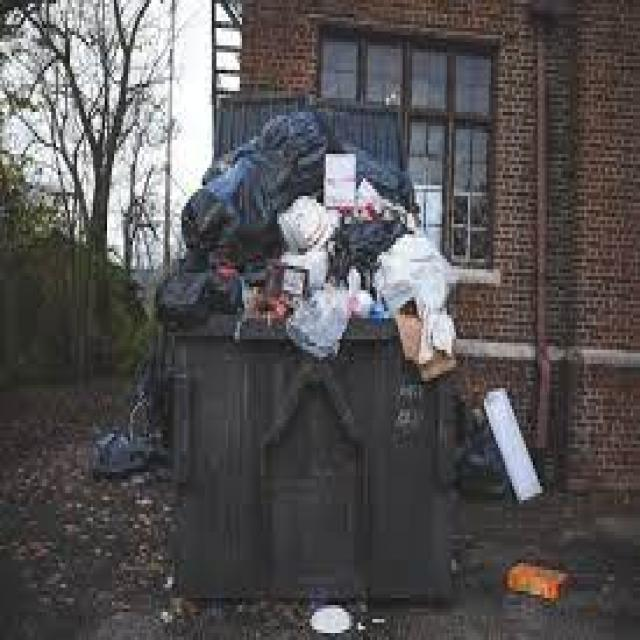garbage: (154, 108, 464, 340), (456, 376, 544, 502), (88, 426, 168, 478), (504, 553, 572, 605), (304, 594, 358, 640)
